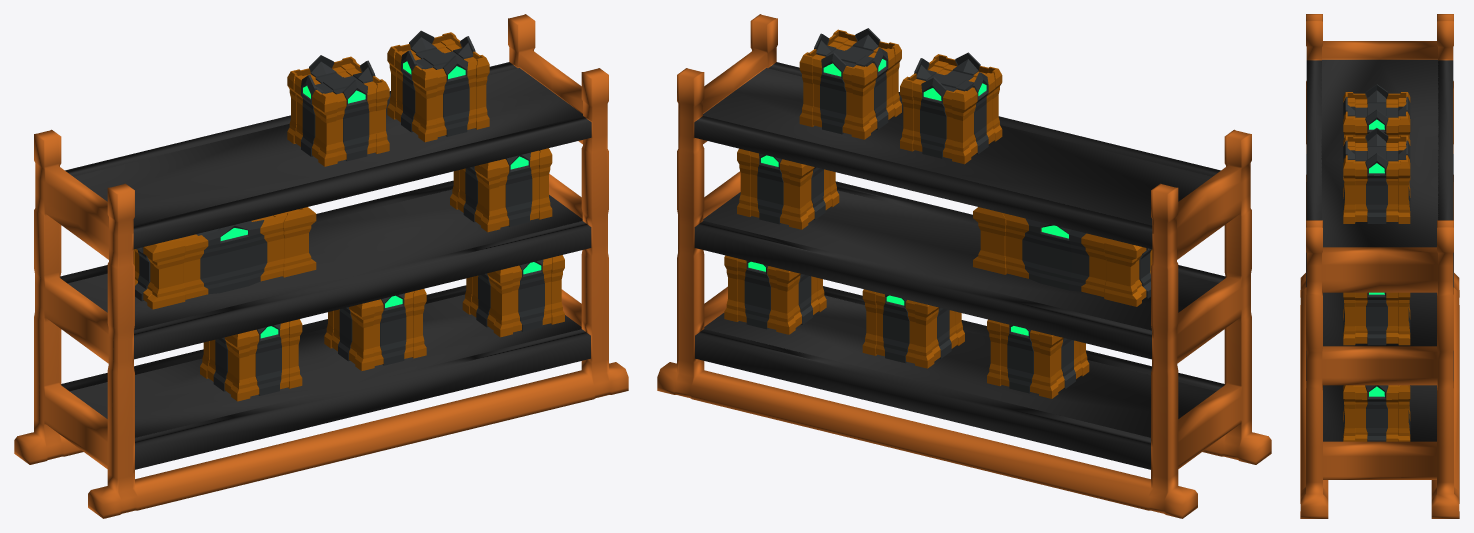
Rendered from Filled Shelf 2.fbx.
3 views of the same model, side by side, from view 1: azimuth 30°, elevation 25°; view 2: azimuth 150°, elevation 25°; view 3: azimuth 270°, elevation 25° (orthographic). The views are drawn at different scales.
Visible parts, largest first — view 1: Cube.015, Cube.017, Cube.024, Cube.023, Cube.020, Cube.019, Cube.021, Cube.018; view 2: Cube.015, Cube.017, Cube.023, Cube.024, Cube.020, Cube.019, Cube.018, Cube.021; view 3: Cube.015, Cube.024, Cube.021, Cube.020, Cube.023.
Boxes of the visible parts, x1,y1,x2,y2 form: Cube.015: [14, 14, 628, 518]; Cube.017: [133, 207, 316, 309]; Cube.024: [387, 30, 489, 142]; Cube.023: [287, 55, 389, 166]; Cube.020: [450, 148, 552, 232]; Cube.019: [200, 319, 302, 401]; Cube.021: [462, 255, 564, 337]; Cube.018: [324, 289, 426, 370]; Cube.015: [657, 14, 1271, 518]; Cube.017: [973, 207, 1152, 306]; Cube.023: [900, 52, 1002, 164]; Cube.024: [799, 28, 901, 139]; Cube.020: [737, 148, 839, 229]; Cube.019: [987, 319, 1089, 398]; Cube.018: [862, 289, 964, 368]; Cube.021: [724, 255, 826, 334]; Cube.015: [1300, 14, 1459, 518]; Cube.024: [1343, 128, 1410, 223]; Cube.021: [1343, 385, 1410, 441]; Cube.020: [1343, 292, 1410, 345]; Cube.023: [1343, 84, 1410, 180].
Bounding box in the file's own units: 1038 × 665 × 305.
